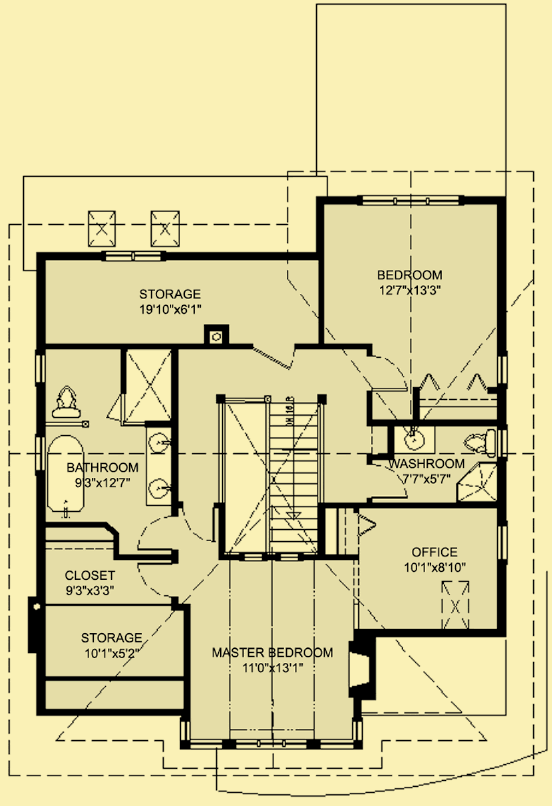door: (364, 352, 408, 397), (364, 459, 407, 504), (179, 501, 219, 548), (137, 512, 178, 553), (136, 560, 176, 598), (254, 339, 299, 372)
large_sink: (454, 428, 497, 463), (50, 382, 84, 422)
small_sink: (142, 426, 173, 508), (393, 422, 438, 460)
stairs: (216, 396, 323, 556)
tub: (47, 433, 90, 516)
window: (183, 732, 356, 753), (348, 192, 466, 208), (94, 249, 171, 267), (30, 351, 49, 383), (493, 350, 509, 388), (494, 520, 506, 566)
